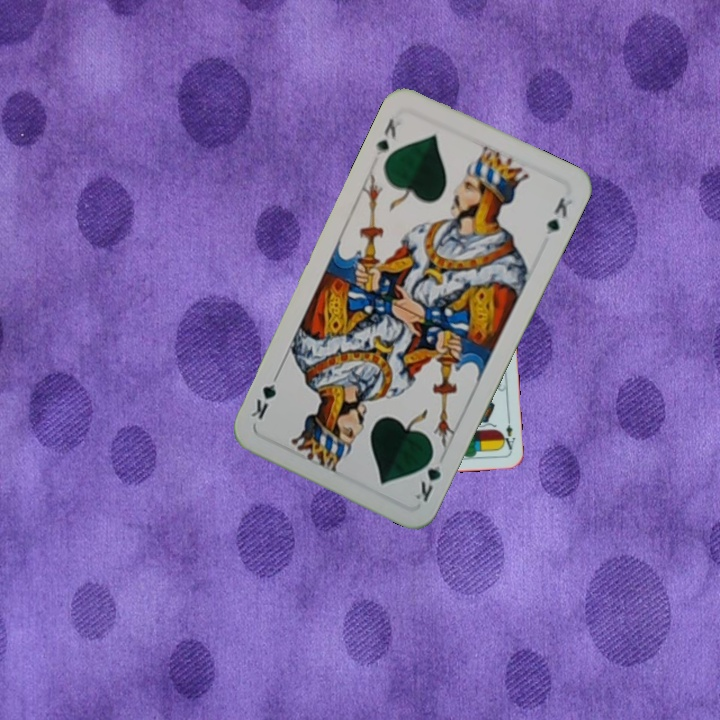EA: (498, 412, 518, 452)
GK: (410, 447, 446, 505), (371, 114, 399, 160)
